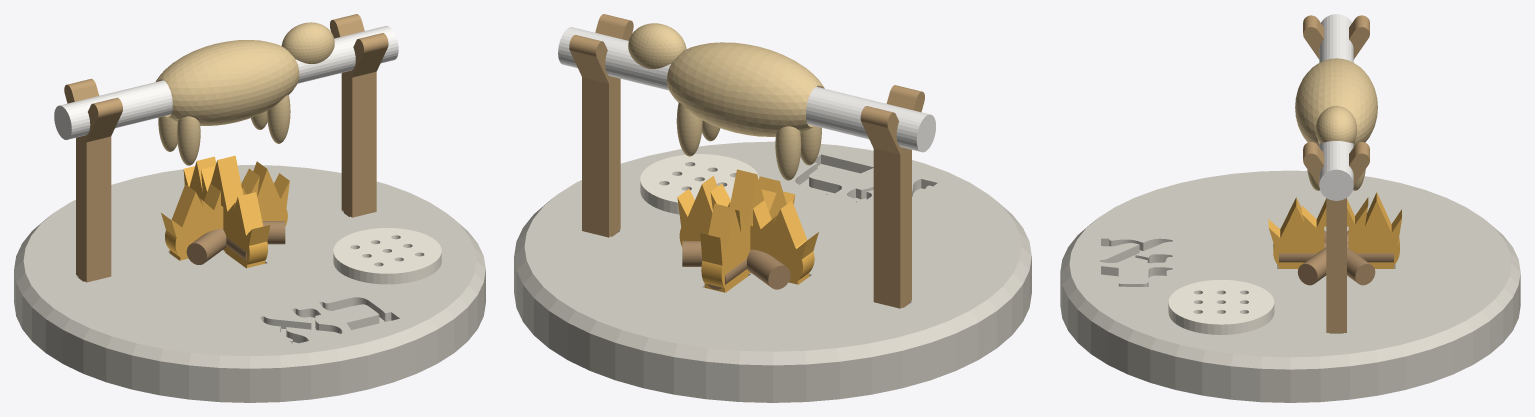
The picture shows the model from 3 angles, left to right: view 1: azimuth 30°, elevation 25°; view 2: azimuth 150°, elevation 25°; view 3: azimuth 270°, elevation 25°; orthographic projection. The views are drawn at different scales.
Visible parts, largest first — view 1: stage, lamb, post-1, post-2, spit, matzah, fire-a, fire-b, logs; view 2: stage, lamb, post-1, post-2, spit, fire-a, fire-b, matzah, logs; view 3: stage, lamb, fire-b, matzah, post-2, spit, logs, post-1.
Boxes of the visible parts, x1,y1,x2,y2 form: stage: (14, 165, 485, 402); lamb: (155, 22, 334, 165); post-1: (64, 78, 122, 282); post-2: (330, 14, 388, 217); spit: (54, 26, 398, 139); matzah: (333, 228, 441, 284); fire-a: (161, 161, 289, 260); fire-b: (183, 155, 270, 268); logs: (186, 221, 285, 264); stage: (514, 141, 1031, 402); lamb: (628, 23, 824, 180); post-1: (860, 85, 924, 308); post-2: (569, 14, 633, 237); spit: (558, 27, 935, 152); fire-a: (677, 176, 818, 284); fire-b: (700, 169, 795, 292); matzah: (640, 154, 758, 214); logs: (682, 241, 790, 289); stage: (1060, 170, 1520, 402); lamb: (1295, 58, 1377, 190); fire-b: (1268, 192, 1401, 268); matzah: (1168, 279, 1274, 334); post-2: (1303, 142, 1369, 333); spit: (1319, 14, 1353, 200); logs: (1279, 230, 1393, 285); post-1: (1303, 15, 1369, 59).
Size of the model in its own units: 40 by 22.6 by 40.
